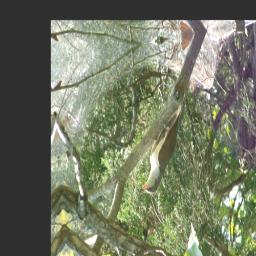Cuckoo: (133, 81, 200, 199)
